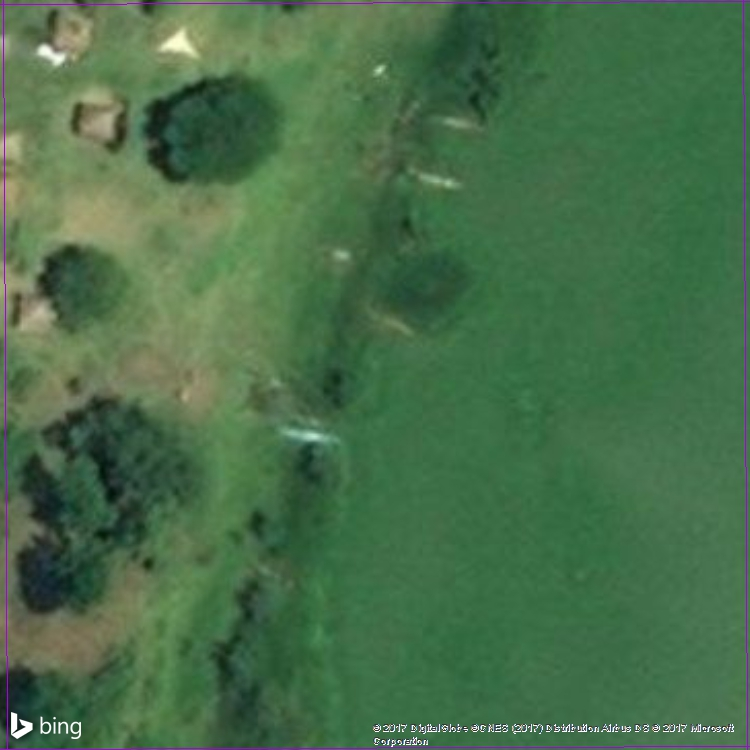boat: (356, 297, 422, 344), (273, 415, 344, 454), (399, 158, 469, 197), (414, 106, 497, 137)
